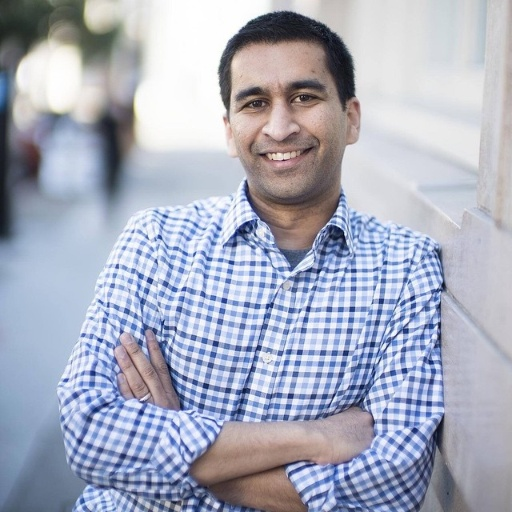hand: (110, 326, 182, 411), (309, 403, 376, 463)
